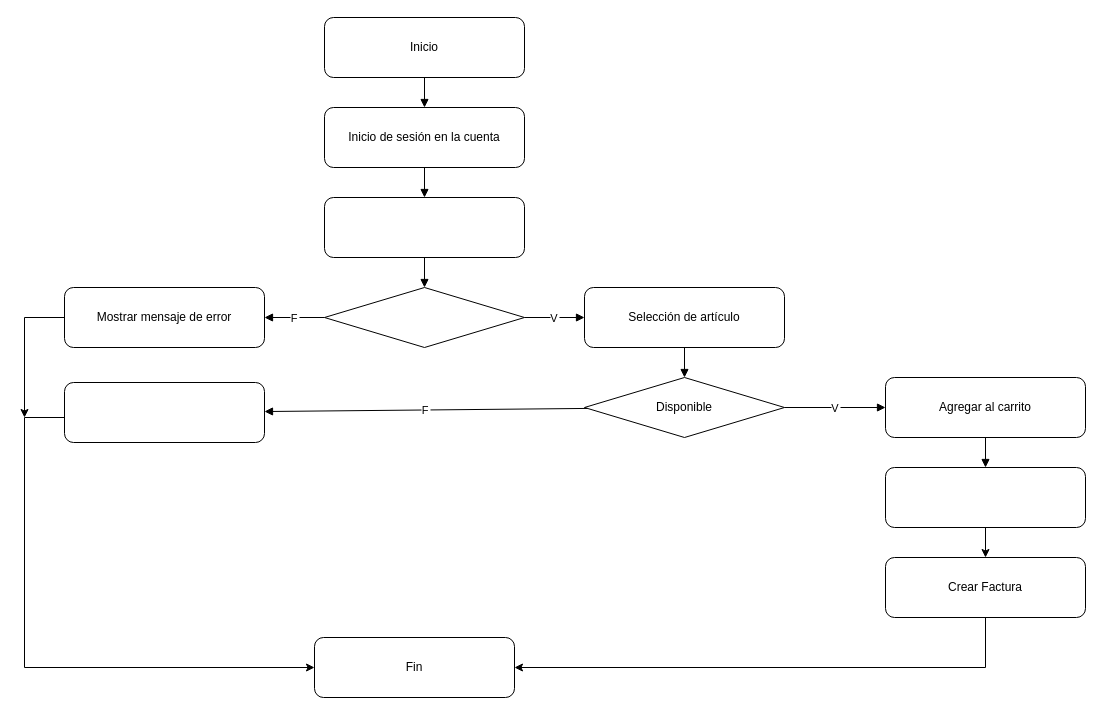
Some shapes in this 1103 by 715 pixel diagram are drawn without their labels. Here are the shapes that lost their labels. From the top down, the box of each, then its label:
(324, 196, 524, 258): Ingresar credenciales
(324, 286, 524, 348): ¿Credenciales válidas?
(64, 382, 264, 442): Mostrar mensaje de agotado
(884, 466, 1086, 528): Continuar al pago
